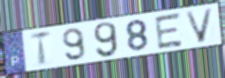8: (125, 18, 150, 53)
9: (92, 20, 119, 58), (61, 27, 88, 62)
E: (153, 11, 185, 51)
T: (29, 29, 53, 67)
V: (183, 6, 216, 44)
